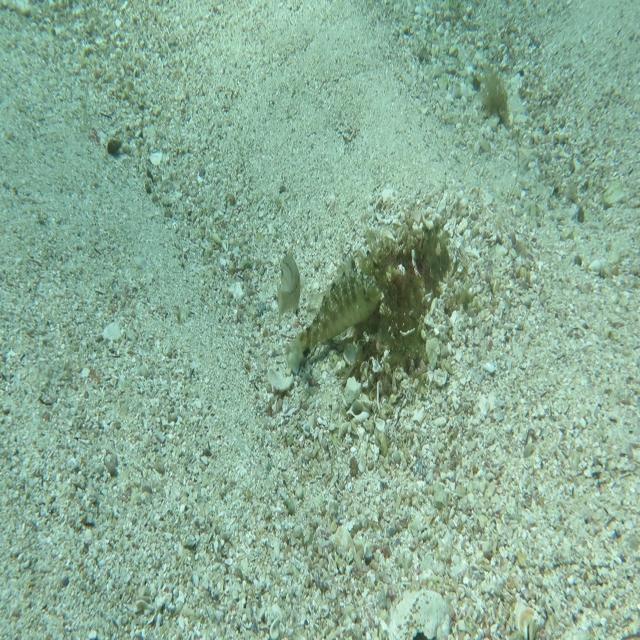LF: (284, 250, 381, 377)
core_nest: (396, 239, 448, 275)
female: (274, 255, 301, 321)
nest: (337, 206, 457, 405)
